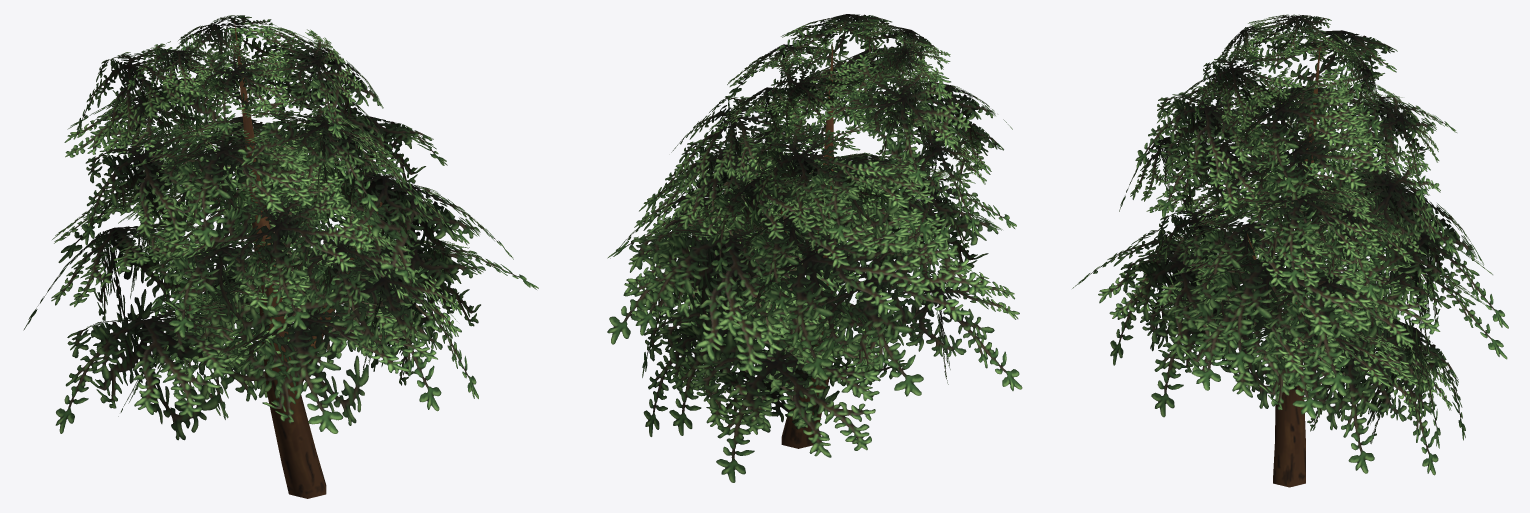
File: Tree_03.fbx
3 renders of one model, left to right at view 1: azimuth 30°, elevation 25°; view 2: azimuth 150°, elevation 25°; view 3: azimuth 270°, elevation 25°, orthographic. The views are drawn at different scales.
Parts seen in each view (by area): view 1: polySurface56; view 2: polySurface56; view 3: polySurface56.
Part boxes in pixels (left/top/right/bottom): polySurface56: left=23, top=15, right=538, bottom=498; polySurface56: left=607, top=14, right=1022, bottom=482; polySurface56: left=1072, top=14, right=1508, bottom=487.
Size of the model in its own units: 6.98 by 6.71 by 6.6.
1 material, 1 textured.
